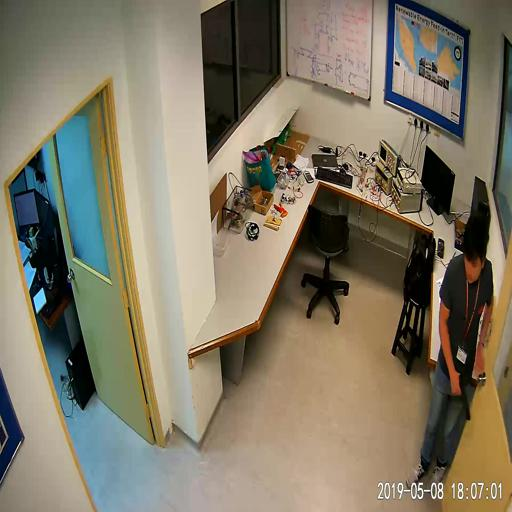pistol: (449, 372, 470, 422)
